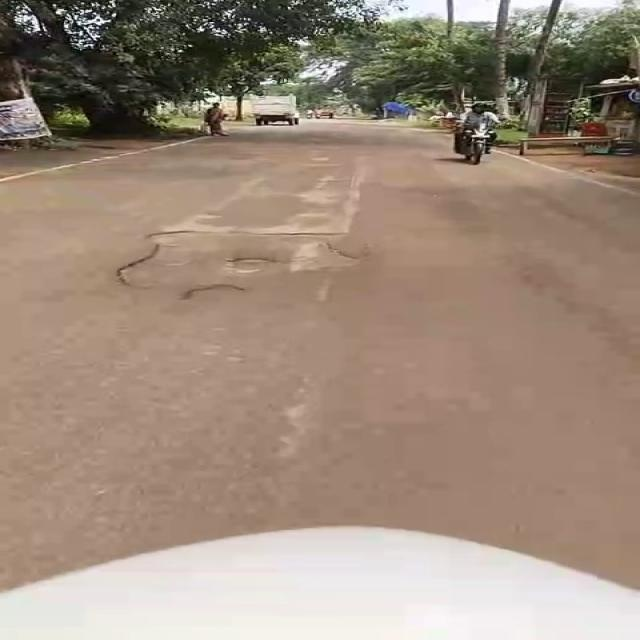pothole: (115, 230, 368, 282), (178, 285, 250, 305), (223, 256, 284, 266)
